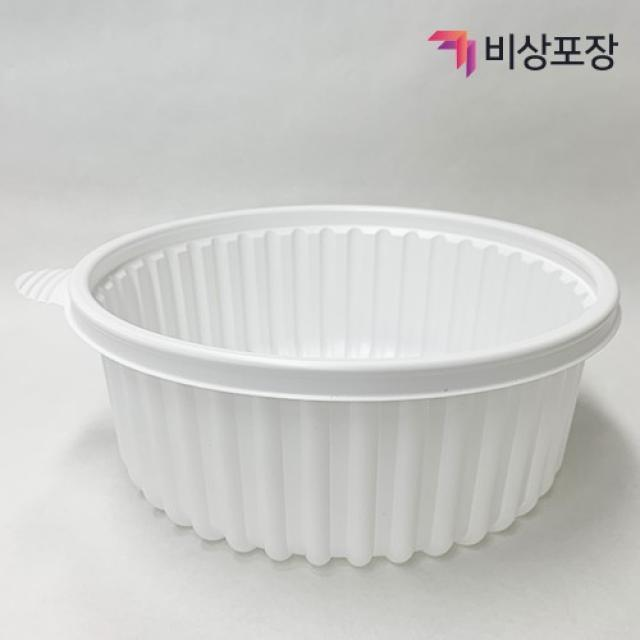disposable: (13, 204, 640, 574)
